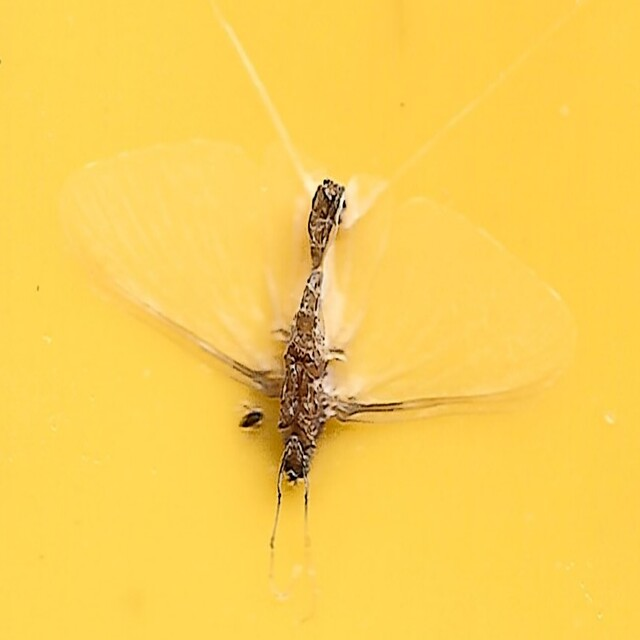Ephemeroptera: (76, 127, 564, 513)
